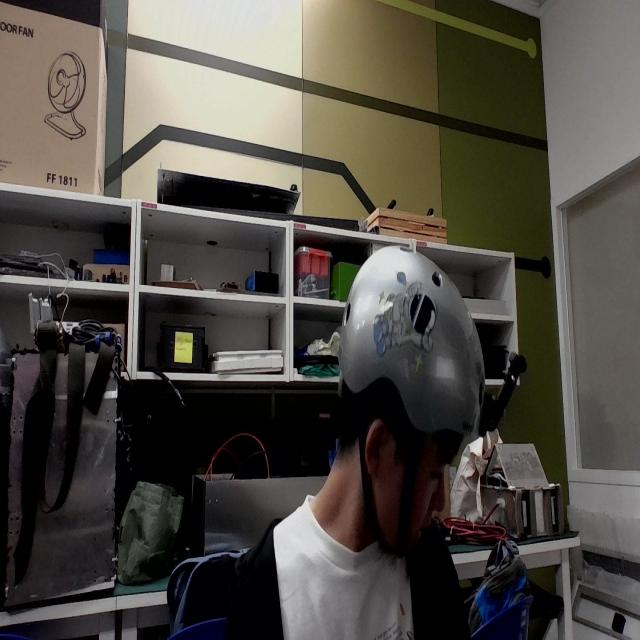With Helmet: (305, 207, 532, 557)
